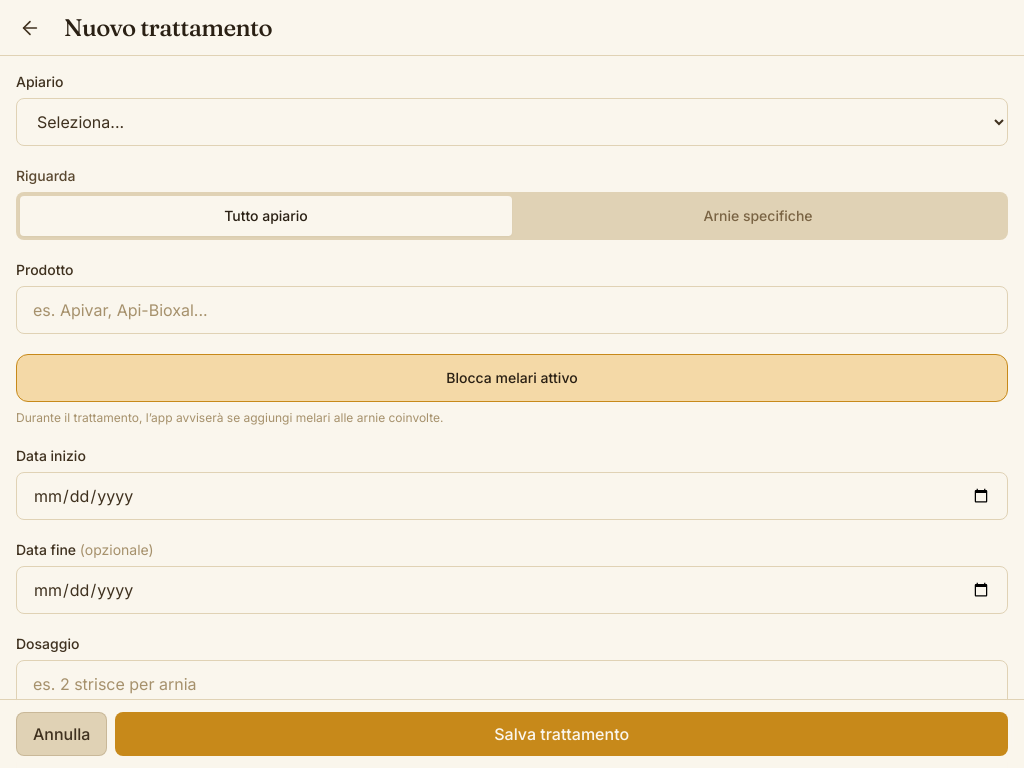
Test: TreatmentForm — unsaved changes › hides unsaved sheet when "Annulla" clicked in sheet
This screenshot has width=1024, height=768.
Type "Apivar" into the field labelled "Prodotto" at (512, 310), box [16,286,1008,334]
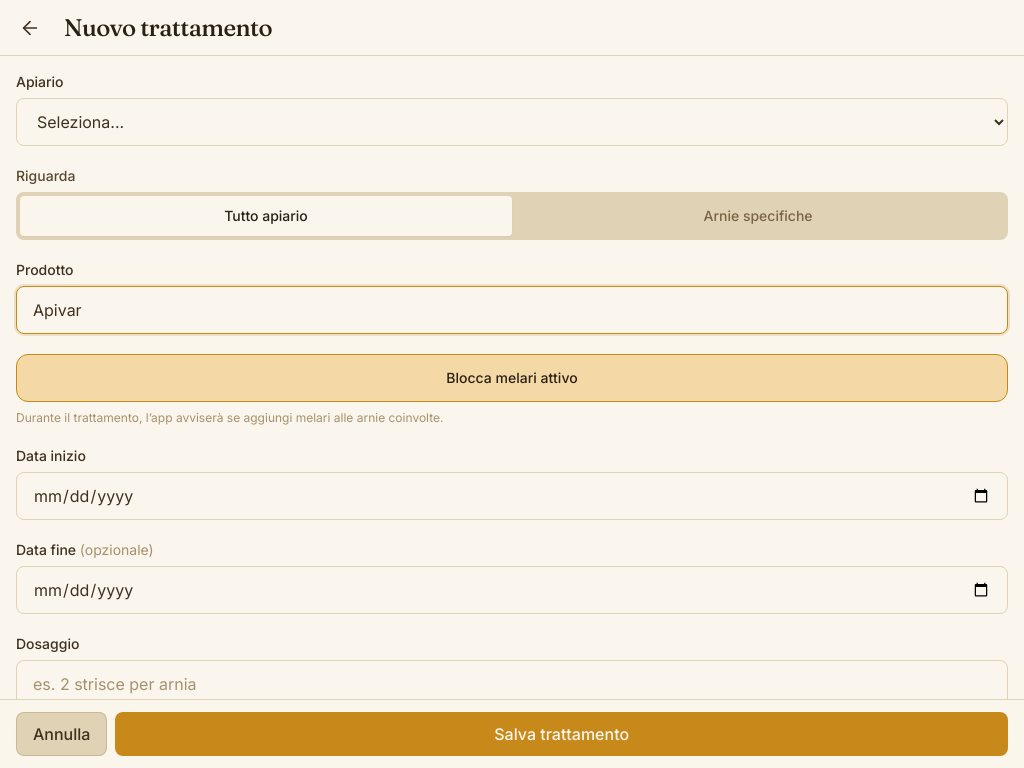
Click the button named "Indietro" at (30, 28), box [8,6,52,50]
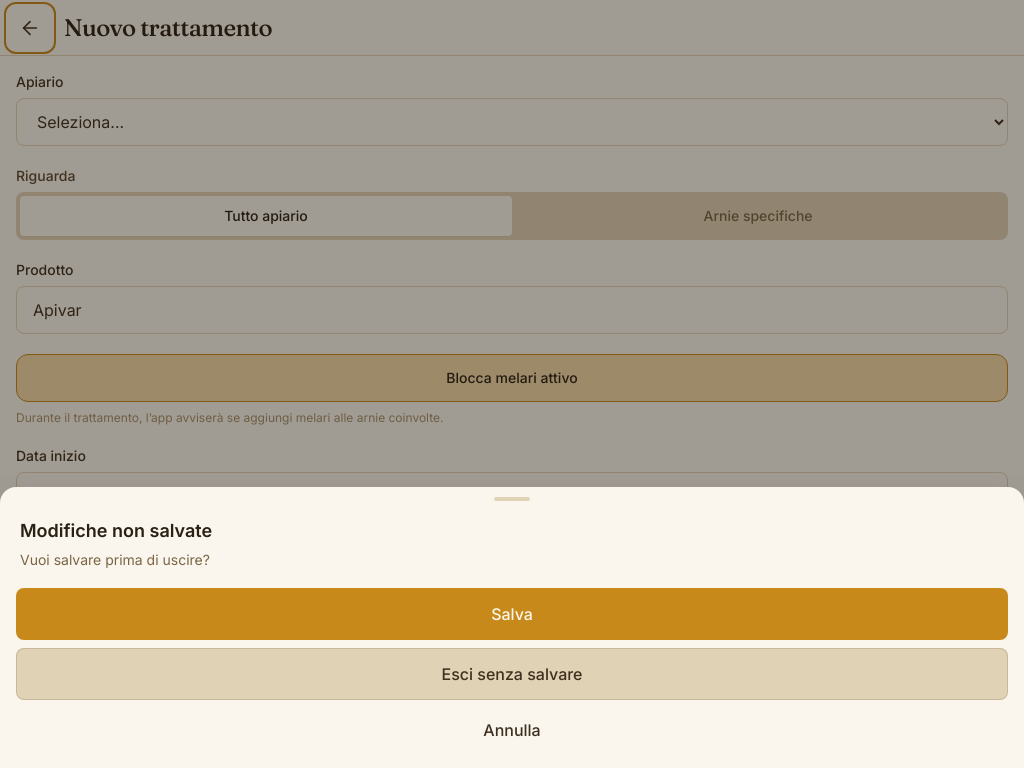
# Two "Annulla" buttons exist: footer + sheet. Pick sheet one (last).
Click the button "Annulla" at (512, 730), box [16,708,1008,752]
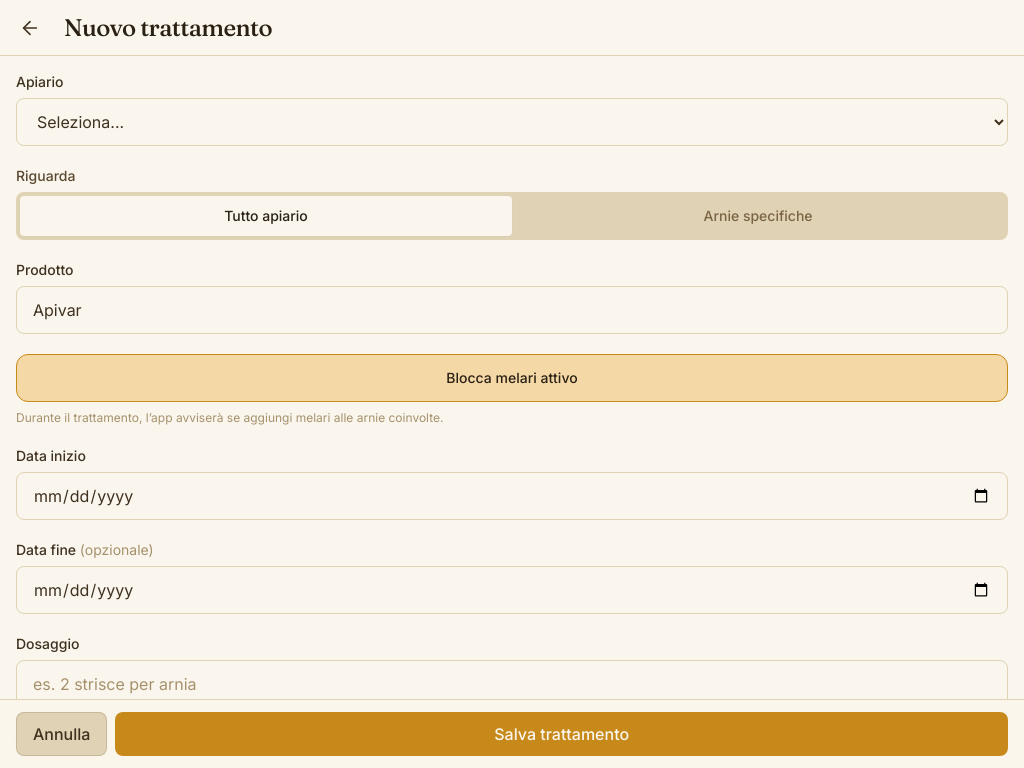
Check: the heading "Modifiche non salvate" is gone
